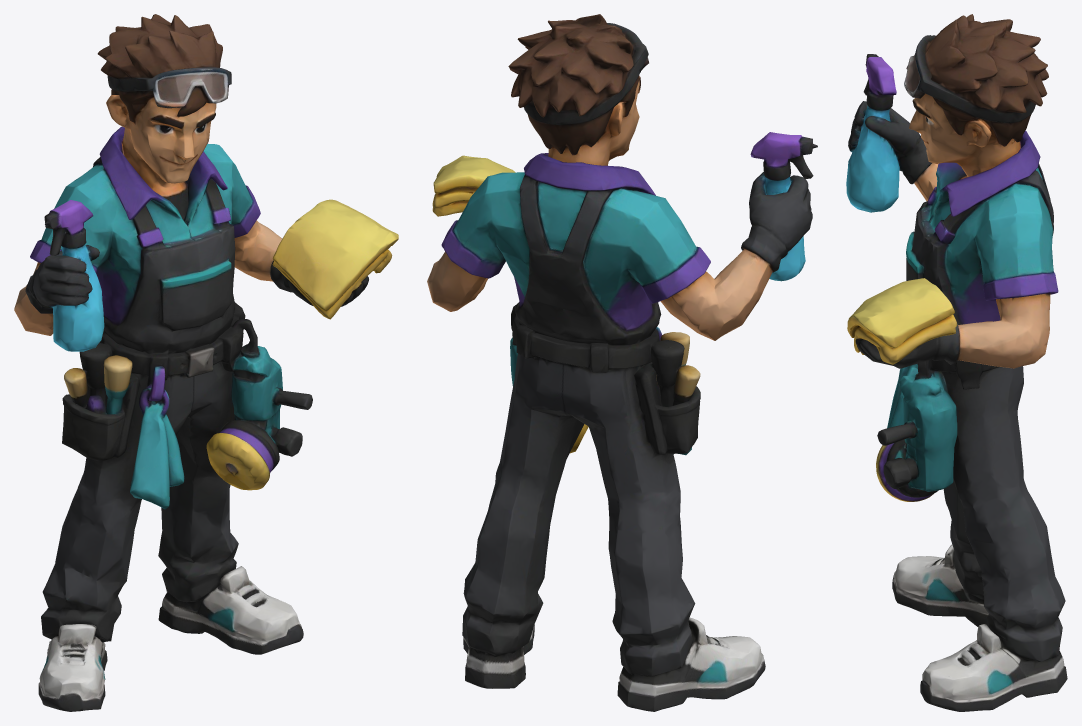
Rendered from detailing_station_character_1k_real.glb.
3 views of the same model, side by side, from view 1: azimuth 30°, elevation 25°; view 2: azimuth 150°, elevation 25°; view 3: azimuth 270°, elevation 25° (orthographic). The views are drawn at different scales.
Visible parts, largest first — view 1: tripo_node_7aed386f-9d8b-4299-aff4-b59d0f742c58; view 2: tripo_node_7aed386f-9d8b-4299-aff4-b59d0f742c58; view 3: tripo_node_7aed386f-9d8b-4299-aff4-b59d0f742c58.
Part boxes in pixels (x1,y1,x2,y2): tripo_node_7aed386f-9d8b-4299-aff4-b59d0f742c58: (14,14,398,711); tripo_node_7aed386f-9d8b-4299-aff4-b59d0f742c58: (427,14,817,711); tripo_node_7aed386f-9d8b-4299-aff4-b59d0f742c58: (846,14,1067,711).
Size of the model in its own units: 0.5938 by 1 by 0.3154.
1 material, 1 textured.
